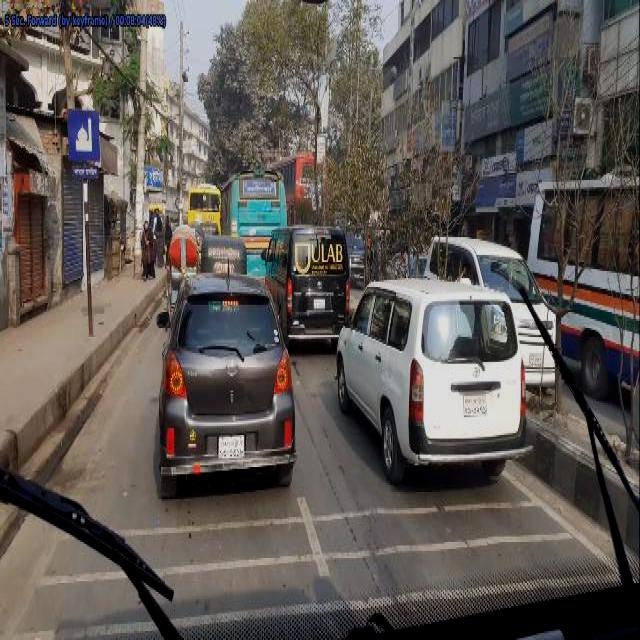BUS: (222, 177, 286, 239), (188, 187, 223, 235)
TRUCK: (262, 225, 350, 342)
